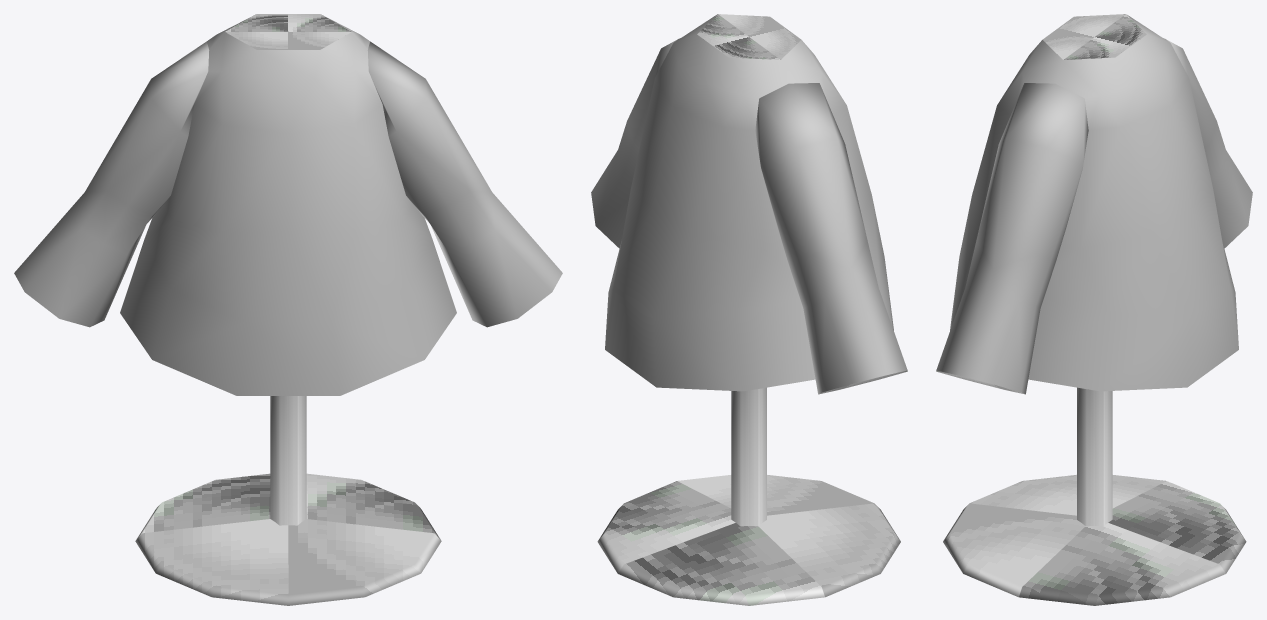
The model's file is mq_tops_shtL_grc.dae.
The picture shows the model from 3 angles, left to right: view 1: azimuth 30°, elevation 25°; view 2: azimuth 150°, elevation 25°; view 3: azimuth 270°, elevation 25°; orthographic projection.
Visible parts, largest first — view 1: mq_tops_shtL_grc; view 2: mq_tops_shtL_grc; view 3: mq_tops_shtL_grc.
Part boxes in pixels (x1,y1,x2,y2): mq_tops_shtL_grc: (14, 14, 562, 605); mq_tops_shtL_grc: (591, 14, 907, 605); mq_tops_shtL_grc: (936, 14, 1252, 605).
Size of the model in its own units: 27.13 by 31.18 by 17.73.
Materials: 2 (2 with a texture image).
